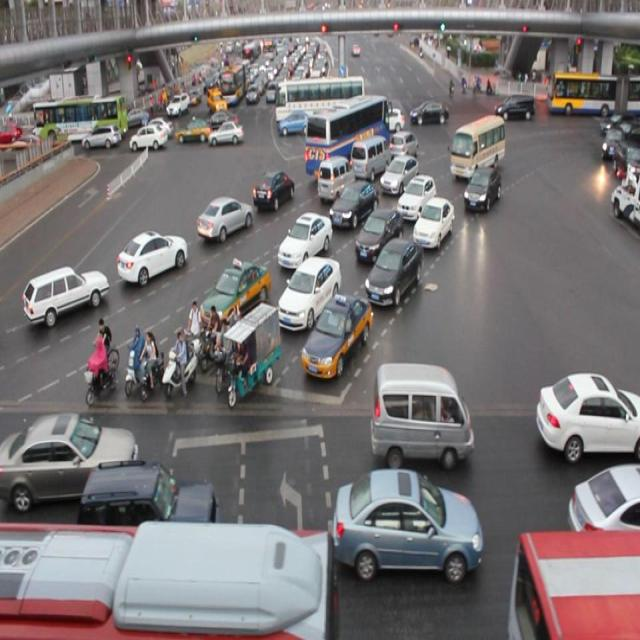car: (331, 468, 483, 580), (1, 410, 138, 505), (80, 458, 219, 538), (533, 368, 640, 464), (298, 297, 371, 379), (199, 254, 272, 335), (567, 465, 640, 545), (24, 259, 109, 322), (276, 252, 342, 330), (362, 231, 424, 307), (117, 225, 187, 282), (277, 210, 332, 268), (352, 207, 402, 262), (197, 193, 253, 242), (328, 177, 379, 225), (412, 194, 455, 247), (254, 168, 298, 208), (381, 148, 420, 190), (398, 172, 438, 212), (462, 165, 499, 208), (390, 126, 418, 162)
truck: (370, 357, 473, 469), (450, 115, 504, 174), (351, 134, 392, 178), (314, 156, 353, 202)
van: (1, 519, 337, 640), (504, 524, 640, 640), (306, 92, 392, 179)
